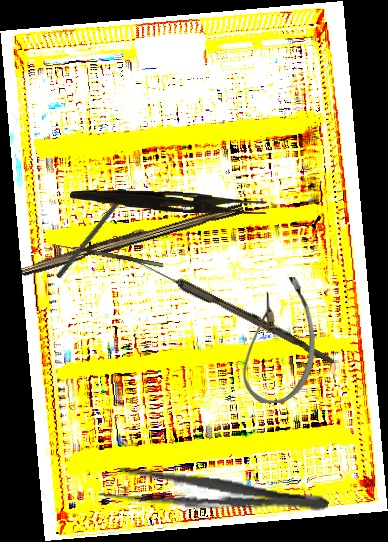Cannula: (242, 277, 315, 403)
Dressing Forceps: (97, 465, 331, 522), (69, 187, 268, 216)
Hook Surgical: (50, 241, 164, 274)
Pusher: (55, 177, 141, 280)
Scalpel Handle: (18, 196, 245, 281)
Surgical Spoon: (119, 250, 338, 365)
